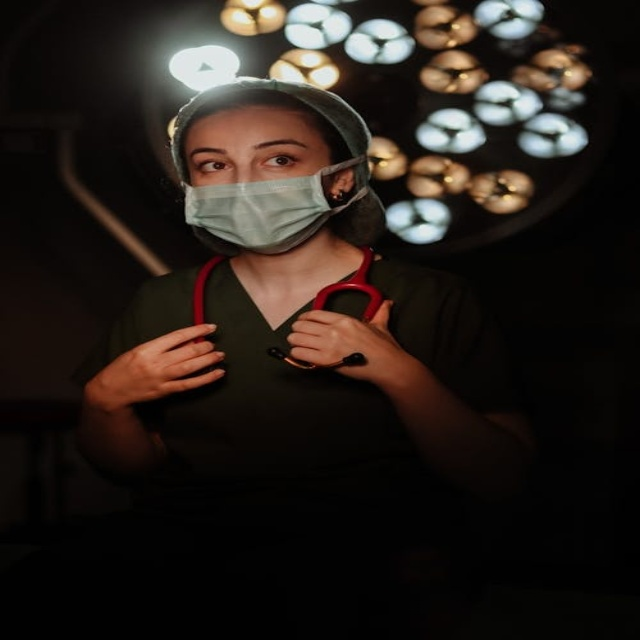Mascara: (182, 156, 367, 254)
Sin_gafas: (179, 142, 311, 175)
Sin_guantes: (85, 322, 226, 411), (283, 301, 408, 380)
